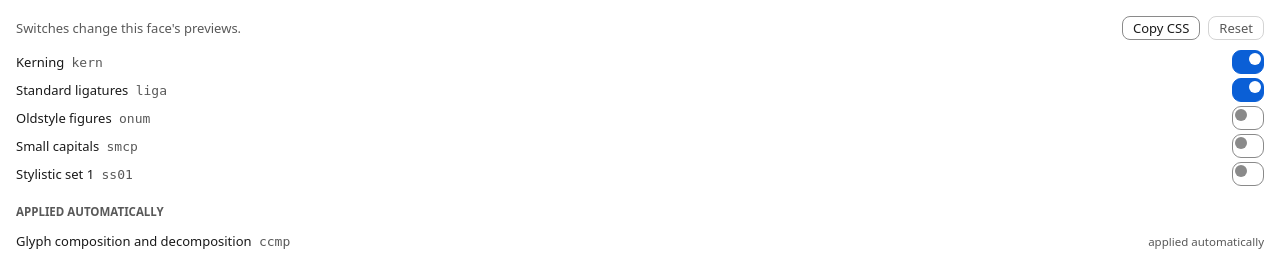
Test: inspector features tab › says "Could not copy" when the clipboard refuses
Click the button with aria-label "Copy CSS for the features" at (1161, 28), box [1122,16,1200,40]
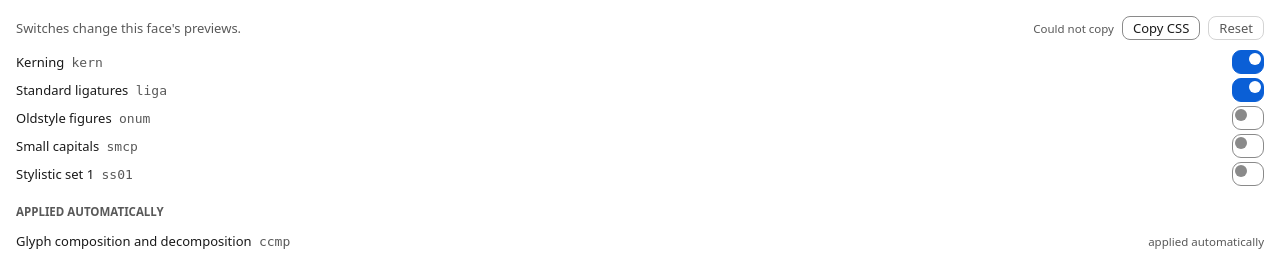
Expected: the message "Could not copy" is shown, [1033,20,1114,36]
